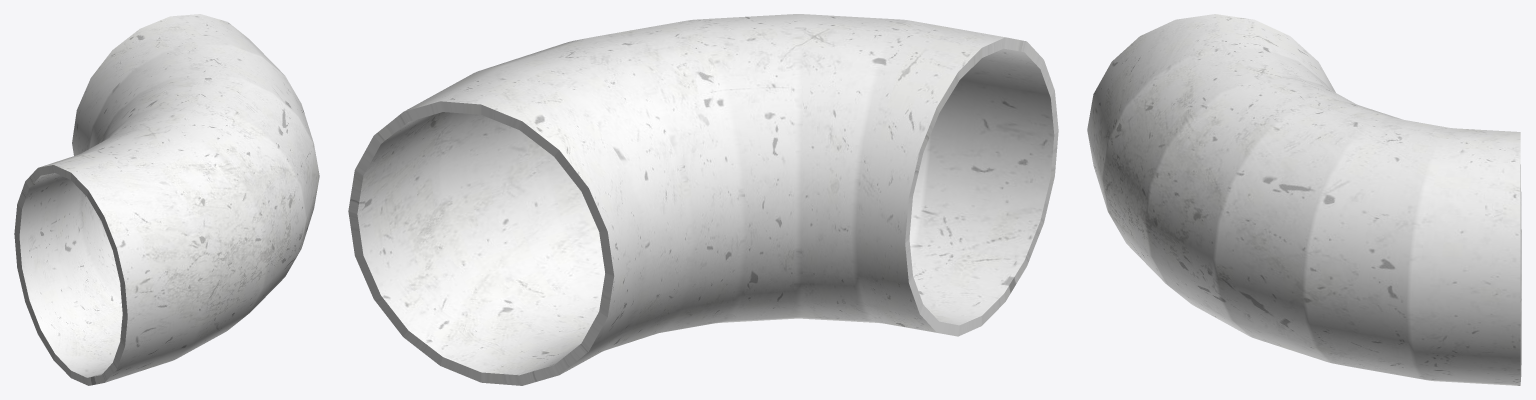
Rendered from SM_AC_Unit_C_Bend_45.glb.
The picture shows the model from 3 angles, left to right: view 1: azimuth 30°, elevation 25°; view 2: azimuth 150°, elevation 25°; view 3: azimuth 270°, elevation 25°; orthographic projection. The views are drawn at different scales.
Parts seen in each view (by area): view 1: SM_AC_Unit_C_Bend_45; view 2: SM_AC_Unit_C_Bend_45; view 3: SM_AC_Unit_C_Bend_45.
Part boxes in pixels (bbox=[...]): SM_AC_Unit_C_Bend_45: bbox=[14, 14, 319, 385]; SM_AC_Unit_C_Bend_45: bbox=[348, 14, 1058, 385]; SM_AC_Unit_C_Bend_45: bbox=[1087, 14, 1521, 385].
Bounding box in the file's own units: 0.6794 × 0.4 × 0.6794.
1 material, 1 textured.
